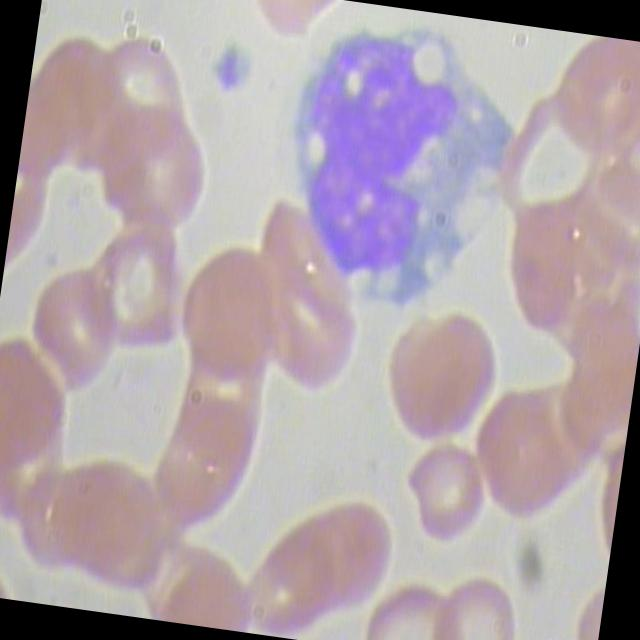Platelets: (203, 36, 254, 105)
RBC: (166, 240, 294, 400), (42, 451, 168, 598), (96, 102, 214, 254), (463, 378, 582, 526), (398, 301, 508, 445), (81, 28, 194, 166), (19, 258, 127, 402), (543, 32, 640, 181), (492, 212, 591, 353), (494, 210, 593, 350), (300, 496, 402, 620), (398, 439, 496, 556), (427, 567, 524, 640), (359, 570, 457, 640)
WBC: (262, 17, 531, 320)
